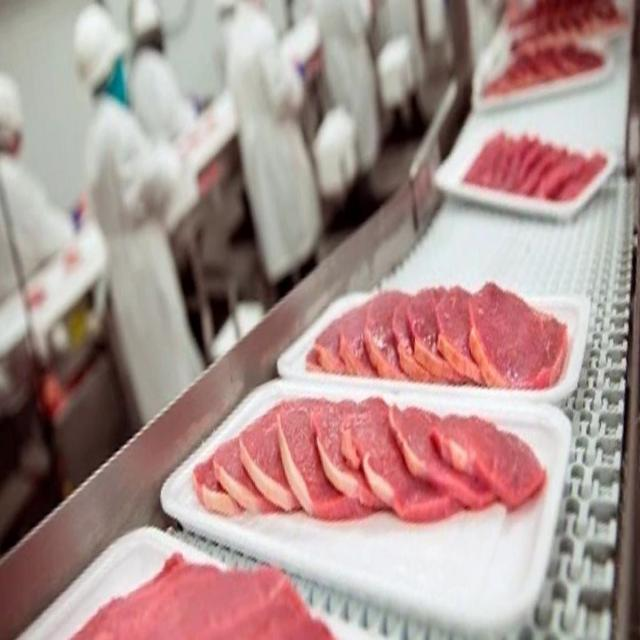food: (158, 375, 572, 635), (280, 266, 604, 404)
